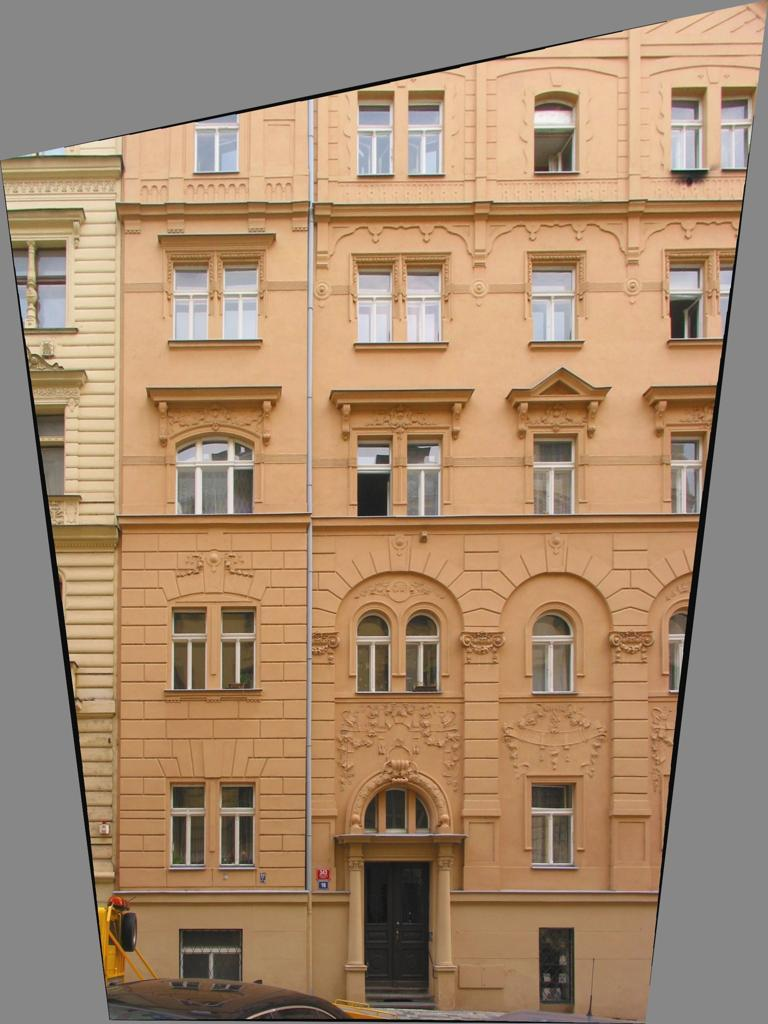window: (175, 432, 255, 515), (179, 929, 242, 1001), (532, 608, 578, 693), (668, 606, 714, 691), (194, 88, 239, 174), (532, 782, 577, 868), (533, 435, 578, 515), (535, 92, 580, 172), (532, 264, 577, 340), (219, 782, 255, 869), (408, 92, 445, 175), (357, 92, 394, 175), (671, 87, 708, 170), (721, 87, 758, 170), (170, 606, 207, 689), (220, 607, 257, 690), (170, 782, 205, 869), (671, 432, 707, 514), (670, 261, 707, 340), (358, 436, 394, 517), (357, 609, 392, 692), (406, 609, 441, 692), (35, 240, 67, 329), (408, 435, 443, 516), (224, 262, 259, 340), (358, 265, 393, 343), (539, 928, 574, 1005), (174, 263, 209, 340), (408, 265, 443, 342), (33, 442, 65, 496), (386, 788, 409, 834), (33, 405, 65, 437), (416, 792, 431, 835), (365, 794, 378, 834)
